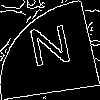N: (25, 24, 77, 76)
